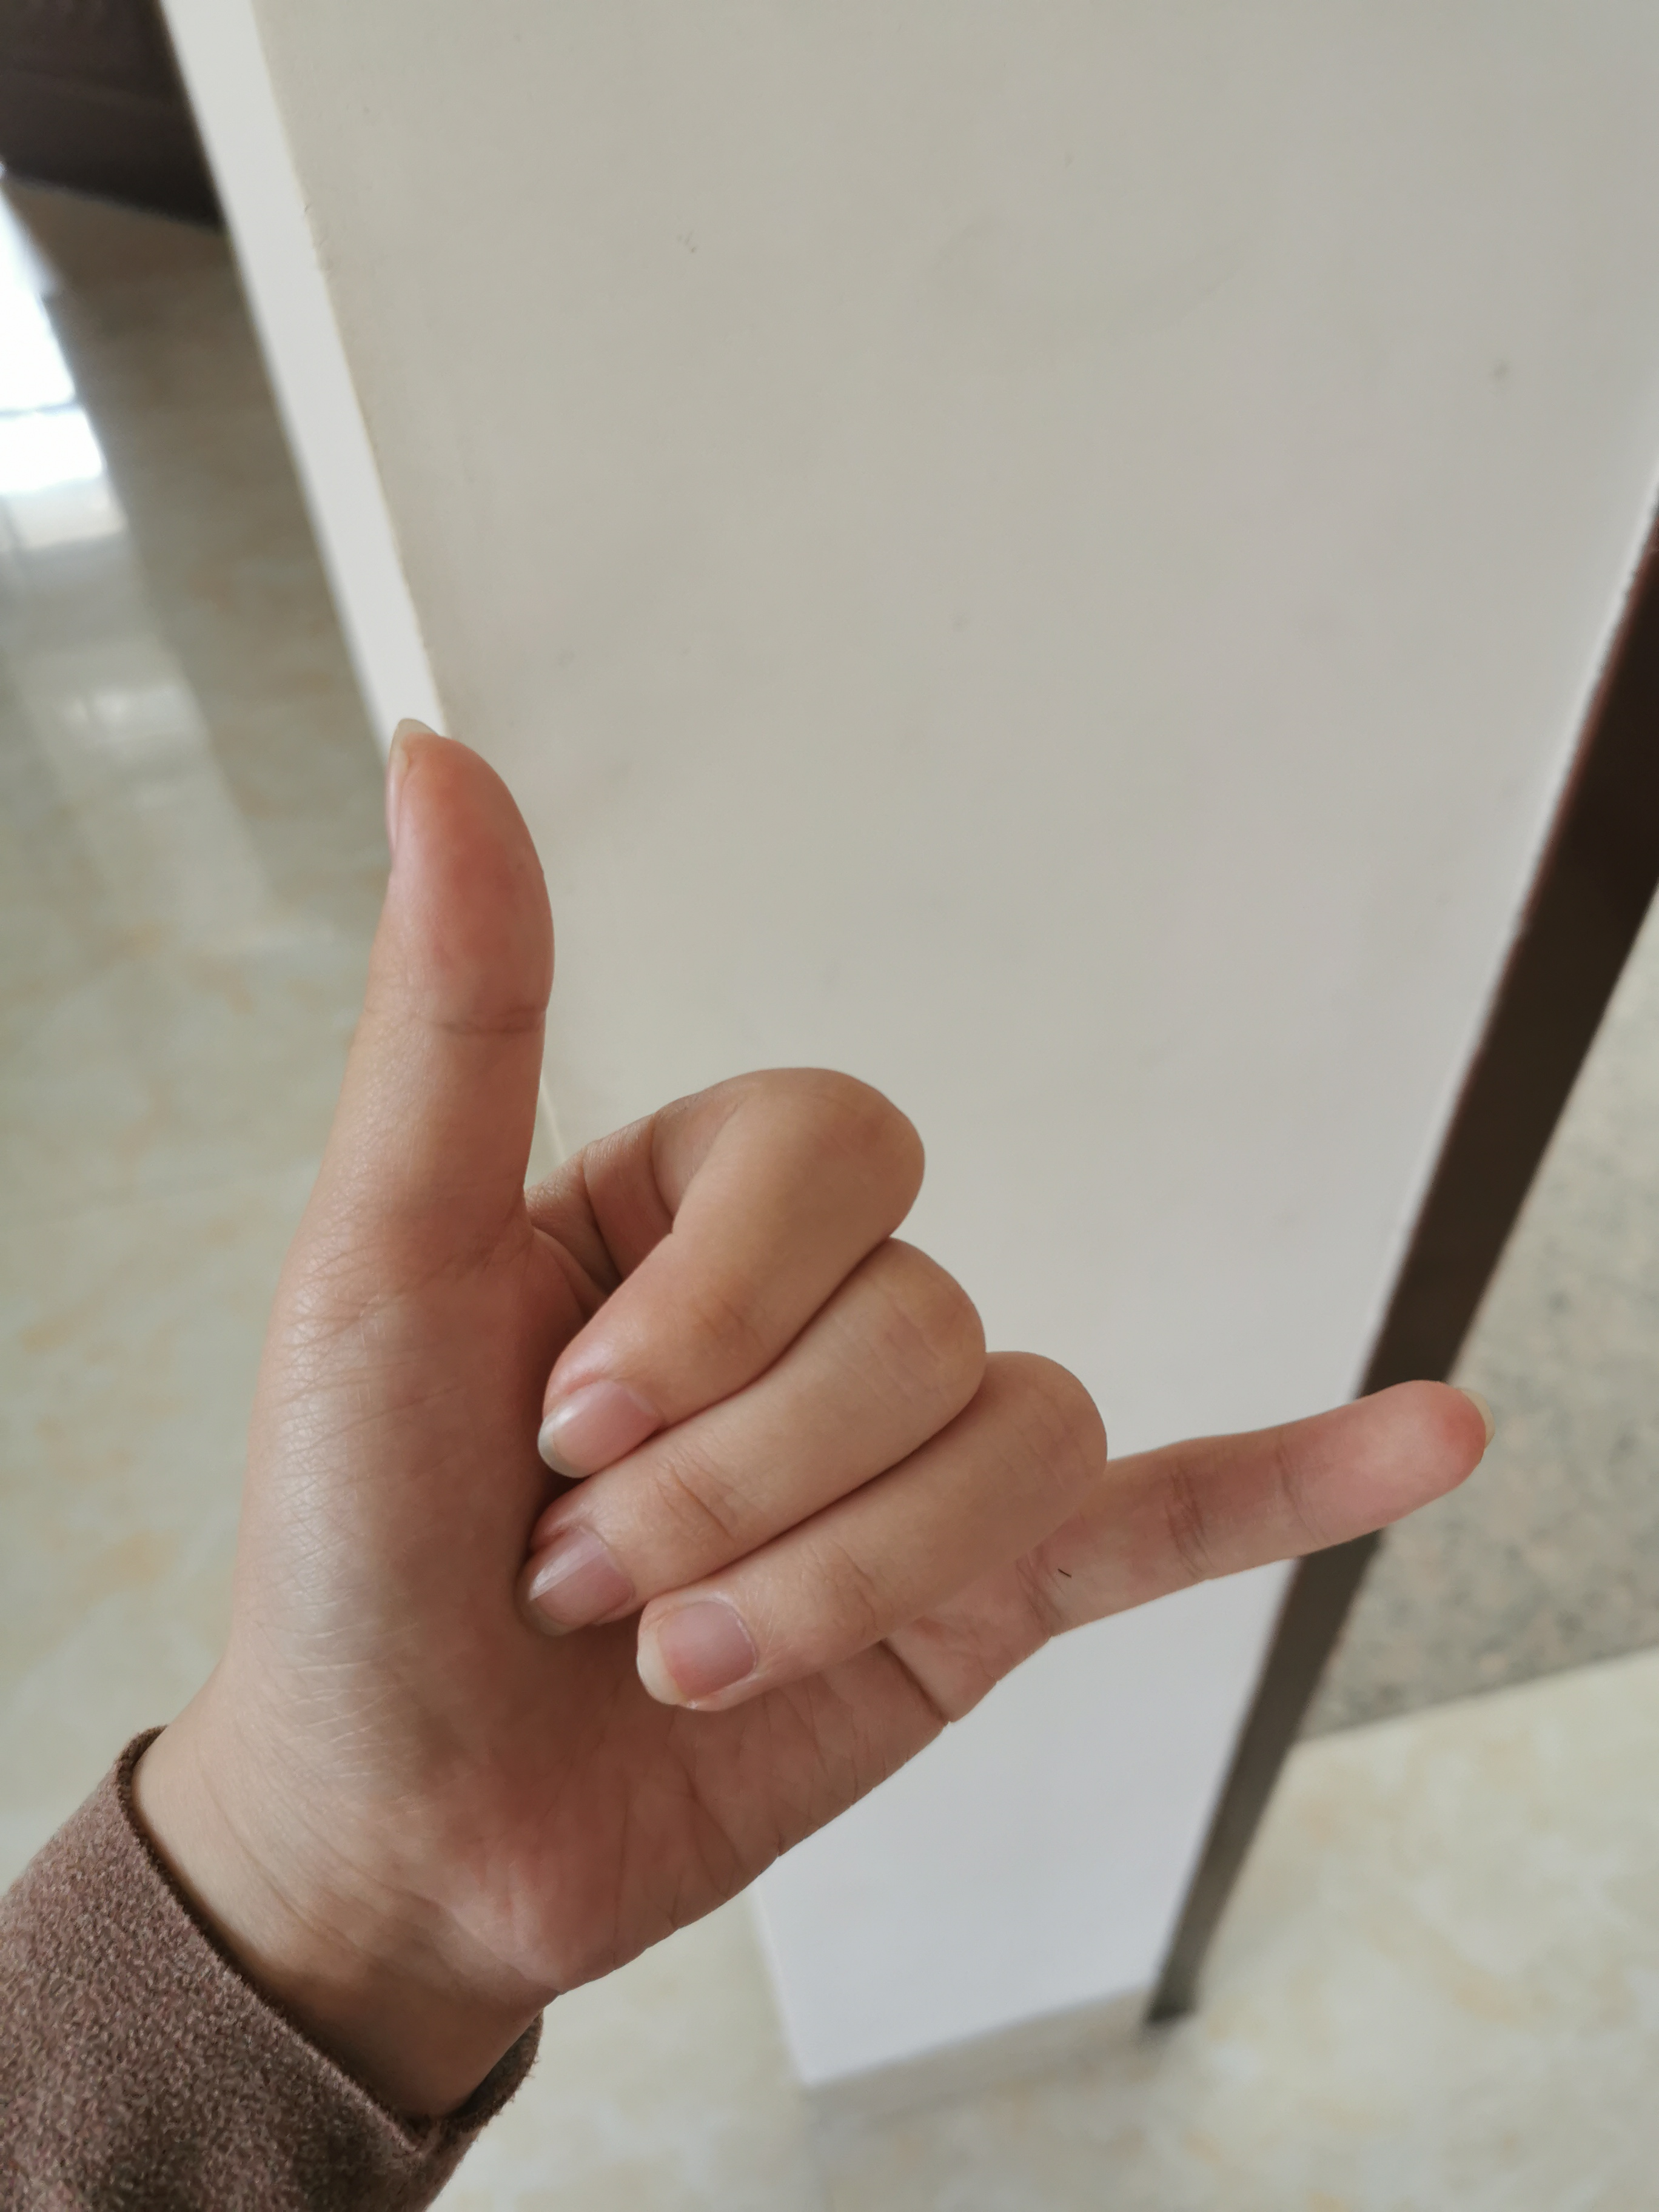clockwise: (185, 716, 1520, 1951)
